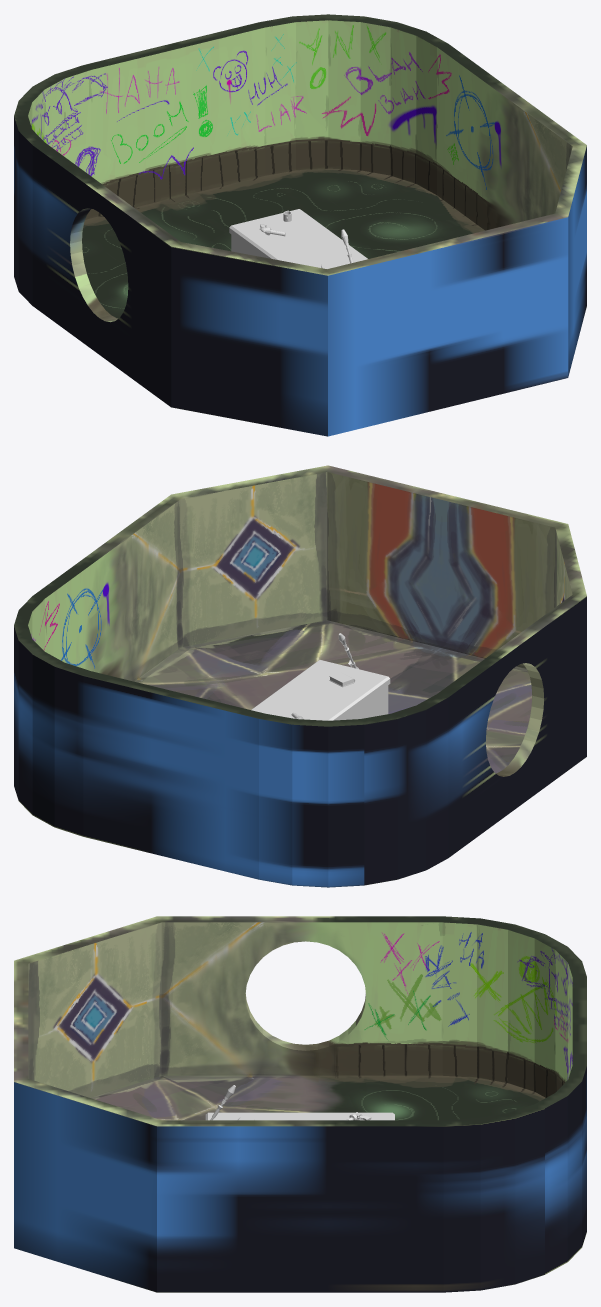
The model's file is bureau.glb.
3 views of the same model, one above another, from view 1: azimuth 30°, elevation 25°; view 2: azimuth 150°, elevation 25°; view 3: azimuth 270°, elevation 25° (orthographic). The views are drawn at different scales.
Visible parts, largest first — view 1: sol, Cube; view 2: sol, Cube; view 3: sol, Cube.
Boxes of the visible parts, x1,y1,x2,y2 form: sol: (14,14,586,436); Cube: (229,209,367,267); sol: (14,465,586,887); Cube: (251,660,390,720); sol: (14,916,586,1292); Cube: (205,1112,394,1120).
Size of the model in its own units: 8.8 by 3.25 by 10.16.
1 material, 1 textured.
